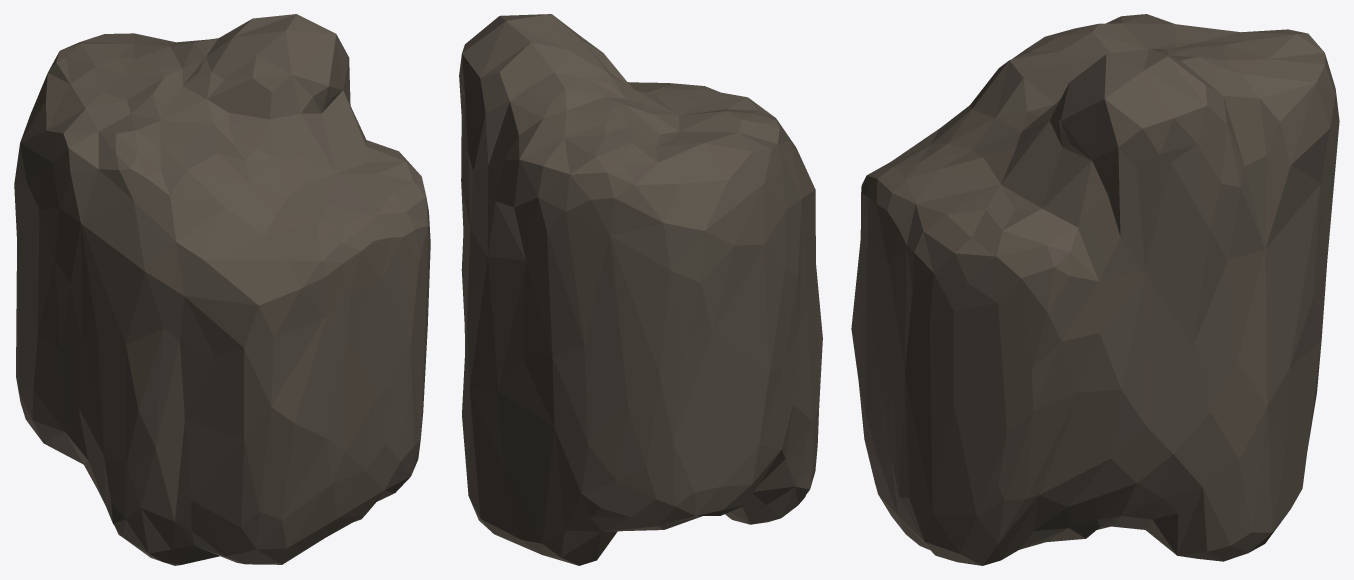
The model's file is bog_cliff_a.gltf.
The picture shows the model from 3 angles, left to right: view 1: azimuth 30°, elevation 25°; view 2: azimuth 150°, elevation 25°; view 3: azimuth 270°, elevation 25°; orthographic projection. The views are drawn at different scales.
Parts seen in each view (by area): view 1: bog_cliff_a; view 2: bog_cliff_a; view 3: bog_cliff_a.
Boxes of the visible parts, x1,y1,x2,y2 form: bog_cliff_a: (14,14,430,565); bog_cliff_a: (459,14,822,565); bog_cliff_a: (851,14,1339,565).
Size of the model in its own units: 6.79 by 9.16 by 7.6.
Materials: 1 (1 with a texture image).
